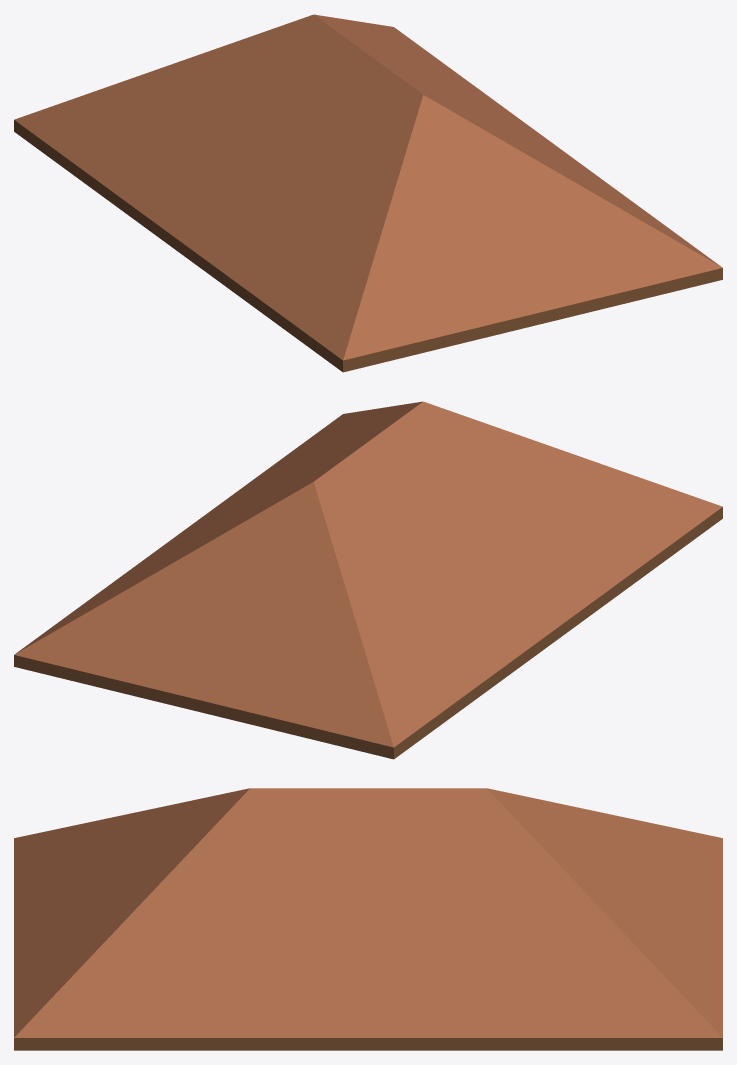
The picture shows the model from 3 angles, top to bottom: view 1: azimuth 30°, elevation 25°; view 2: azimuth 150°, elevation 25°; view 3: azimuth 270°, elevation 25°; orthographic projection. The views are drawn at different scales.
Visible parts, largest first — view 1: ContinuousFourSlopeOpenBottomRoofShell; view 2: ContinuousFourSlopeOpenBottomRoofShell; view 3: ContinuousFourSlopeOpenBottomRoofShell.
Boxes of the visible parts, <box> form: ContinuousFourSlopeOpenBottomRoofShell: <box>14,14,722,372</box>; ContinuousFourSlopeOpenBottomRoofShell: <box>14,401,722,759</box>; ContinuousFourSlopeOpenBottomRoofShell: <box>14,788,722,1050</box>.
Bounding box in the file's own units: 4 × 1.52 × 6.
